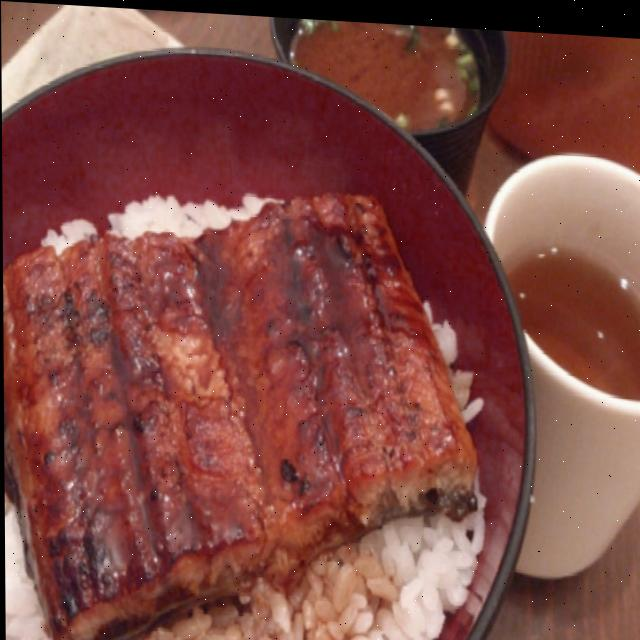熟制海鲜: (0, 41, 537, 640)
